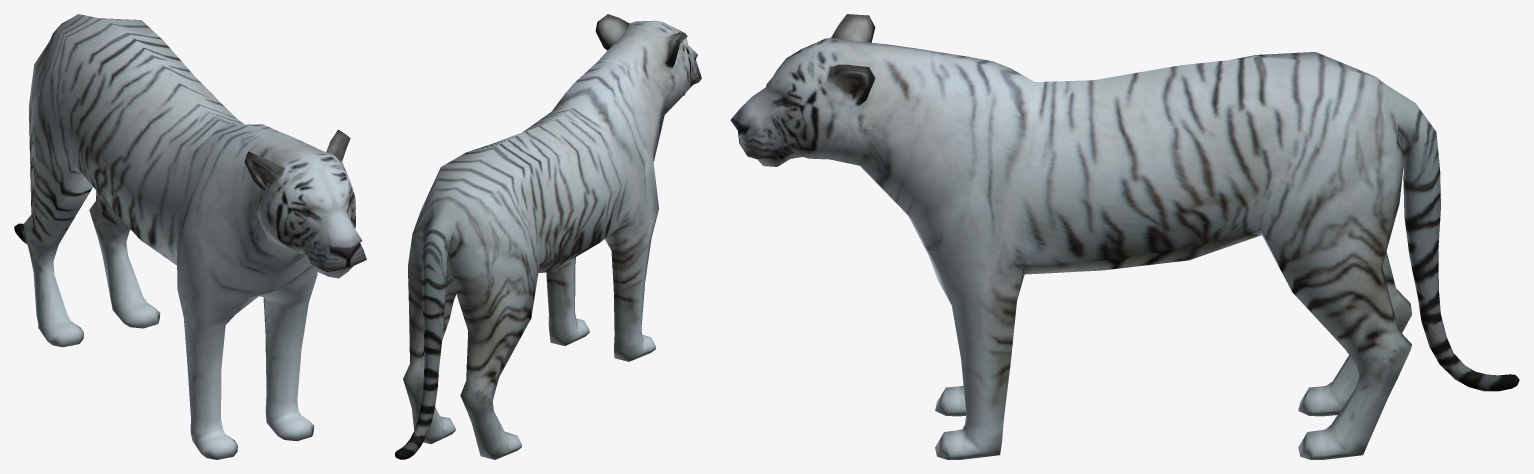
The model's file is whitetiger.fbx.
3 renders of one model, left to right at view 1: azimuth 30°, elevation 25°; view 2: azimuth 150°, elevation 25°; view 3: azimuth 270°, elevation 25°, orthographic. The views are drawn at different scales.
Visible parts, largest first — view 1: Tiger; view 2: Tiger; view 3: Tiger.
Part boxes in pixels (x1,y1,x2,y2): Tiger: [14, 14, 366, 459]; Tiger: [395, 14, 701, 459]; Tiger: [730, 14, 1519, 459].
Size of the model in its own units: 1.54 by 3.67 by 6.74.
Materials: 1 (1 with a texture image).
